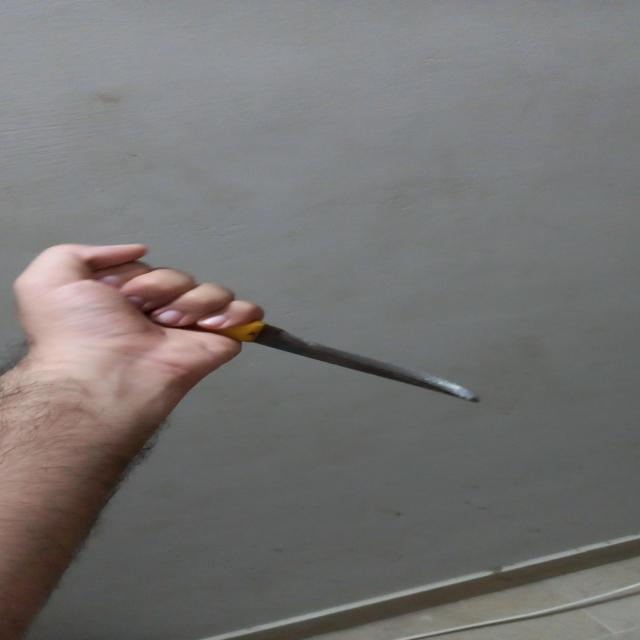faca: (154, 308, 478, 402)
